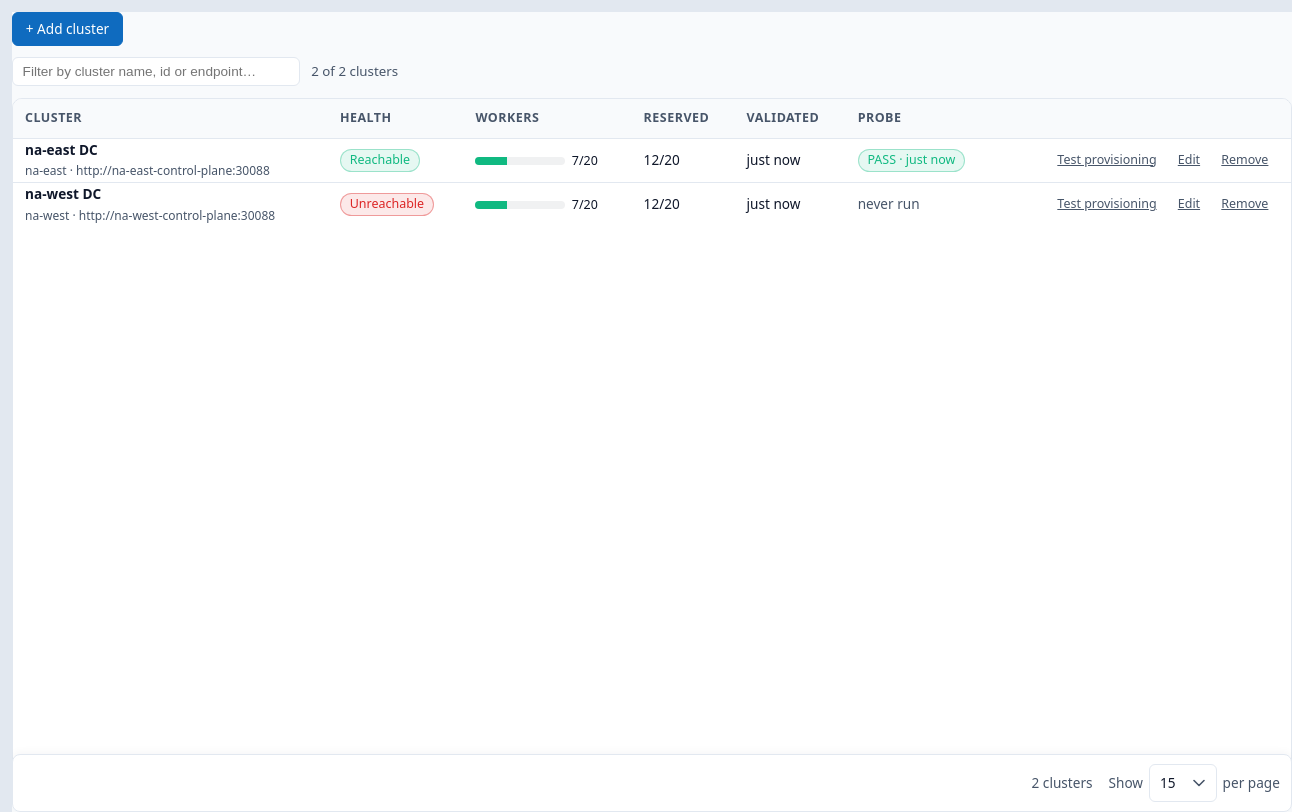
Scenario: ClustersPage (CLUSTER-CAPACITY) › starts an async test-provisioning probe and reports 409 PROBE_IN_PROGRESS honestly
Click the button "Test provisioning" in the row of "na-east DC": (1107, 160) [1047,146,1167,174]
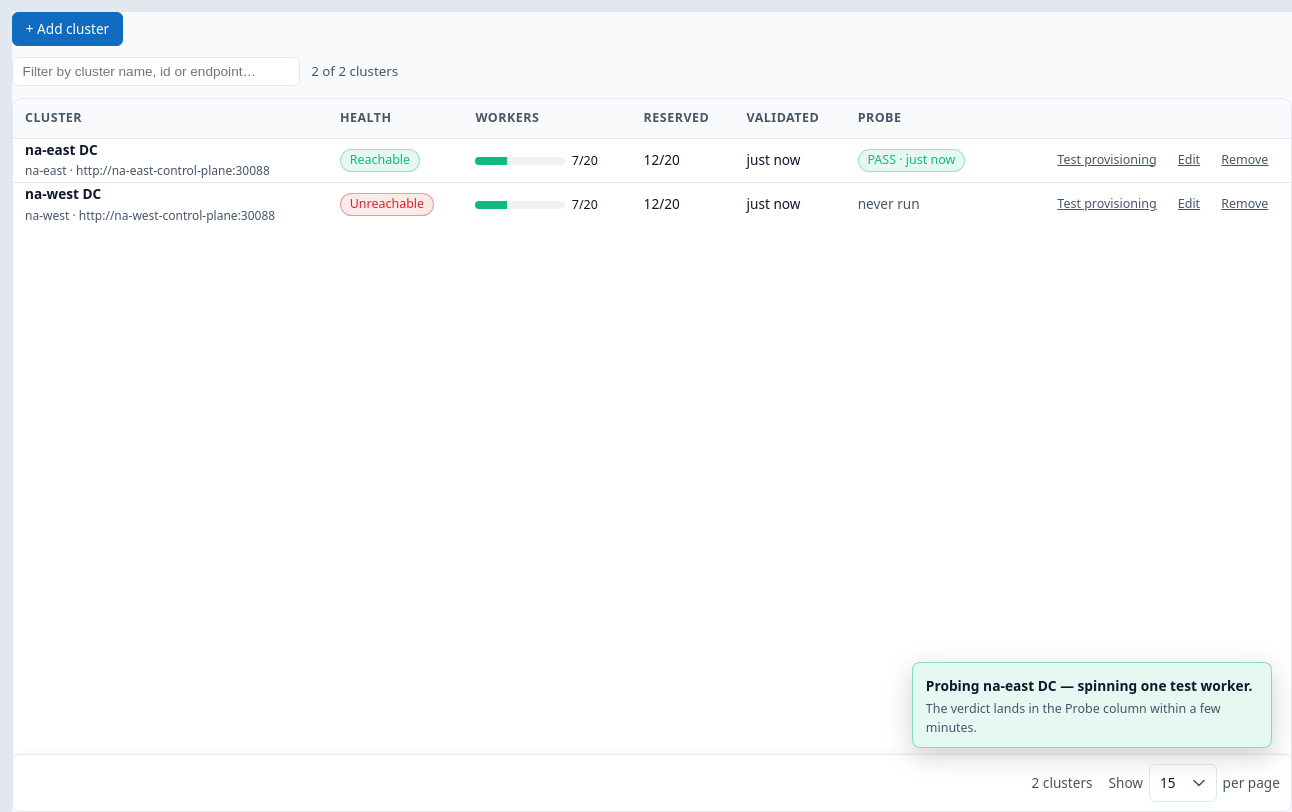
Check: the text "Probing na-east DC — spinning one test worker." is shown, box [926,676,1252,695]
